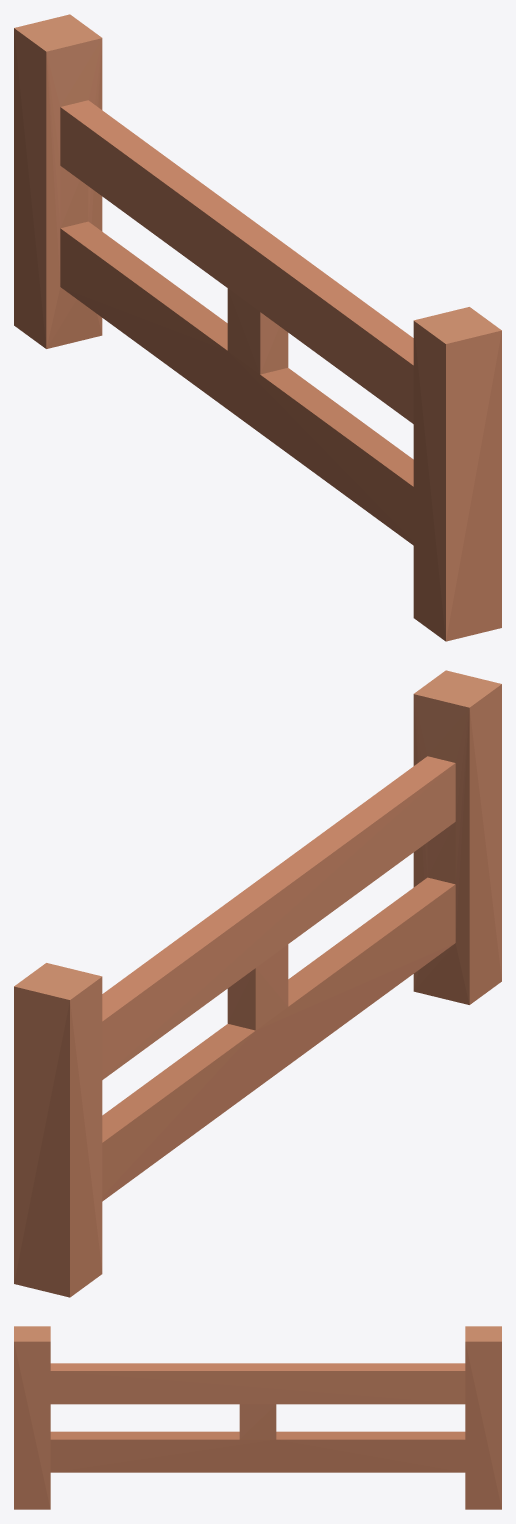
The model's file is kenney_town_fence.glb.
The picture shows the model from 3 angles, top to bottom: view 1: azimuth 30°, elevation 25°; view 2: azimuth 150°, elevation 25°; view 3: azimuth 270°, elevation 25°; orthographic projection. The views are drawn at different scales.
Visible parts, largest first — view 1: wood; view 2: wood; view 3: wood.
Boxes of the visible parts, bbox=[...] form: wood: bbox=[14, 14, 501, 641]; wood: bbox=[14, 670, 501, 1297]; wood: bbox=[14, 1326, 501, 1509].
Size of the model in its own units: 0.075 by 0.38 by 1.
